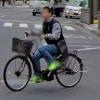bicycles: (3, 31, 83, 92)
